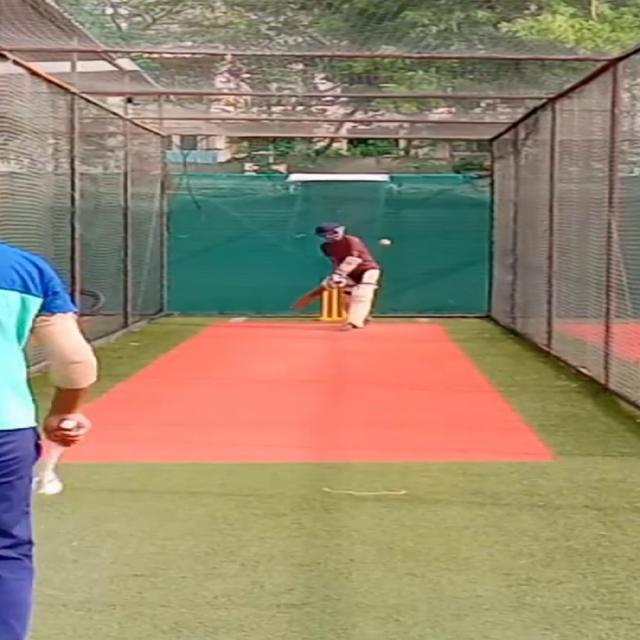ball: (377, 235, 392, 246)
stump: (319, 288, 345, 320)
